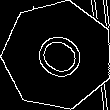O_SE: (23, 23, 92, 88)
